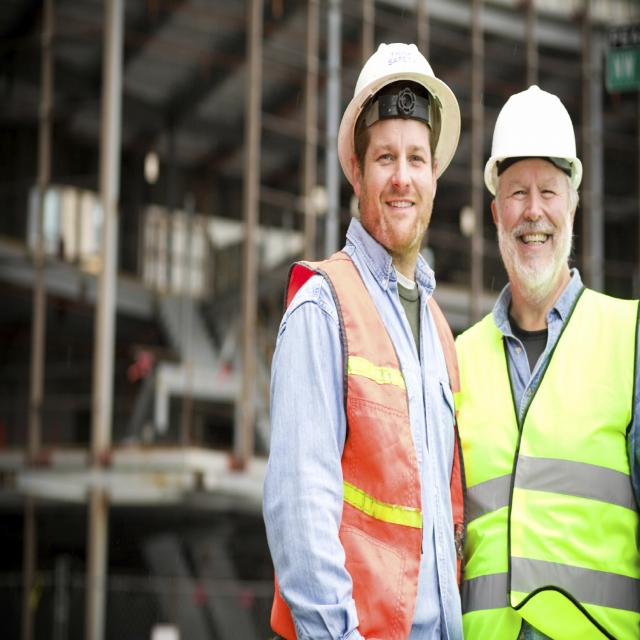Reflective-Jacket: (288, 251, 458, 634), (454, 293, 640, 637)
Safety-Helmet: (332, 39, 463, 178), (481, 81, 585, 193)
